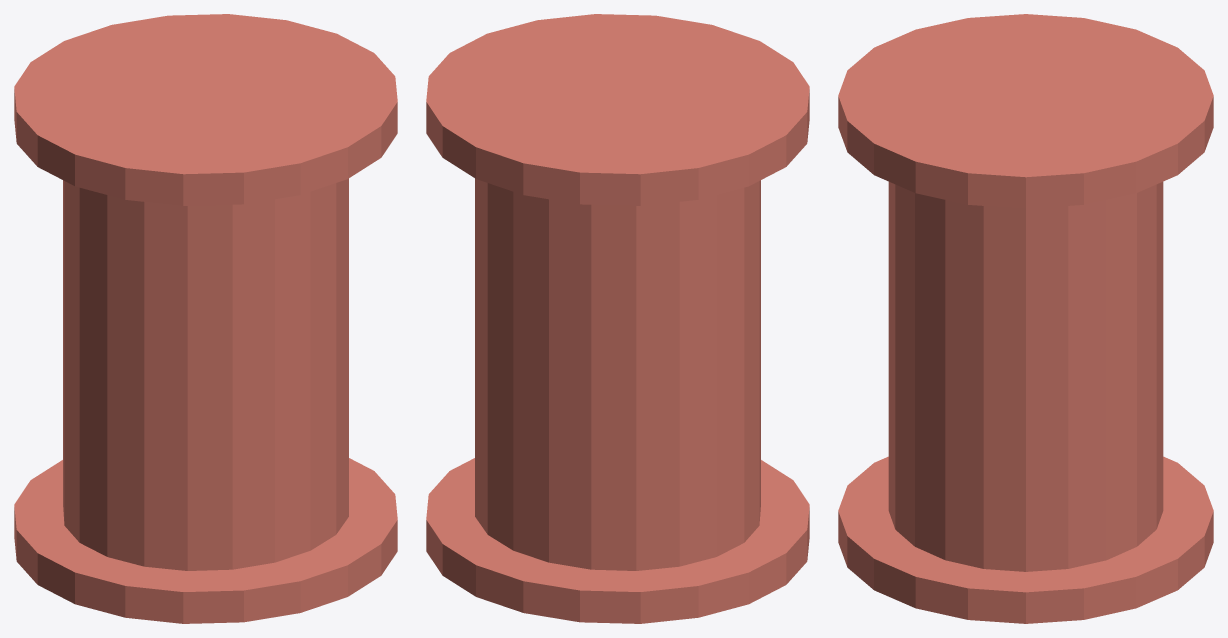
Rendered from can_red.gltf.
3 renders of one model, left to right at view 1: azimuth 30°, elevation 25°; view 2: azimuth 150°, elevation 25°; view 3: azimuth 270°, elevation 25°, orthographic.
Parts seen in each view (by area): view 1: Цилиндр (×3); view 2: Цилиндр (×3); view 3: Цилиндр (×3).
Boxes of the visible parts, x1=… form: Цилиндр (×3): x1=14, y1=14, x2=397, y2=623; Цилиндр (×3): x1=426, y1=14, x2=809, y2=623; Цилиндр (×3): x1=838, y1=14, x2=1213, y2=623.
Bounding box in the file's own units: 1.97 × 2.51 × 1.91.
